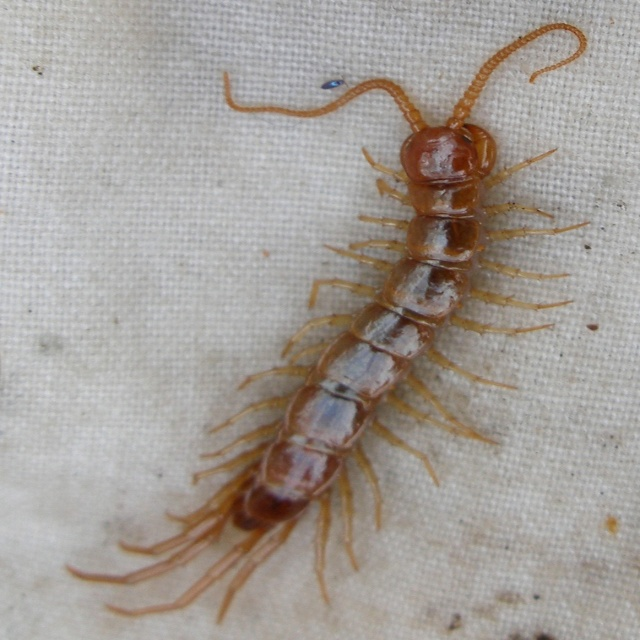Centipede: (65, 19, 594, 626)
